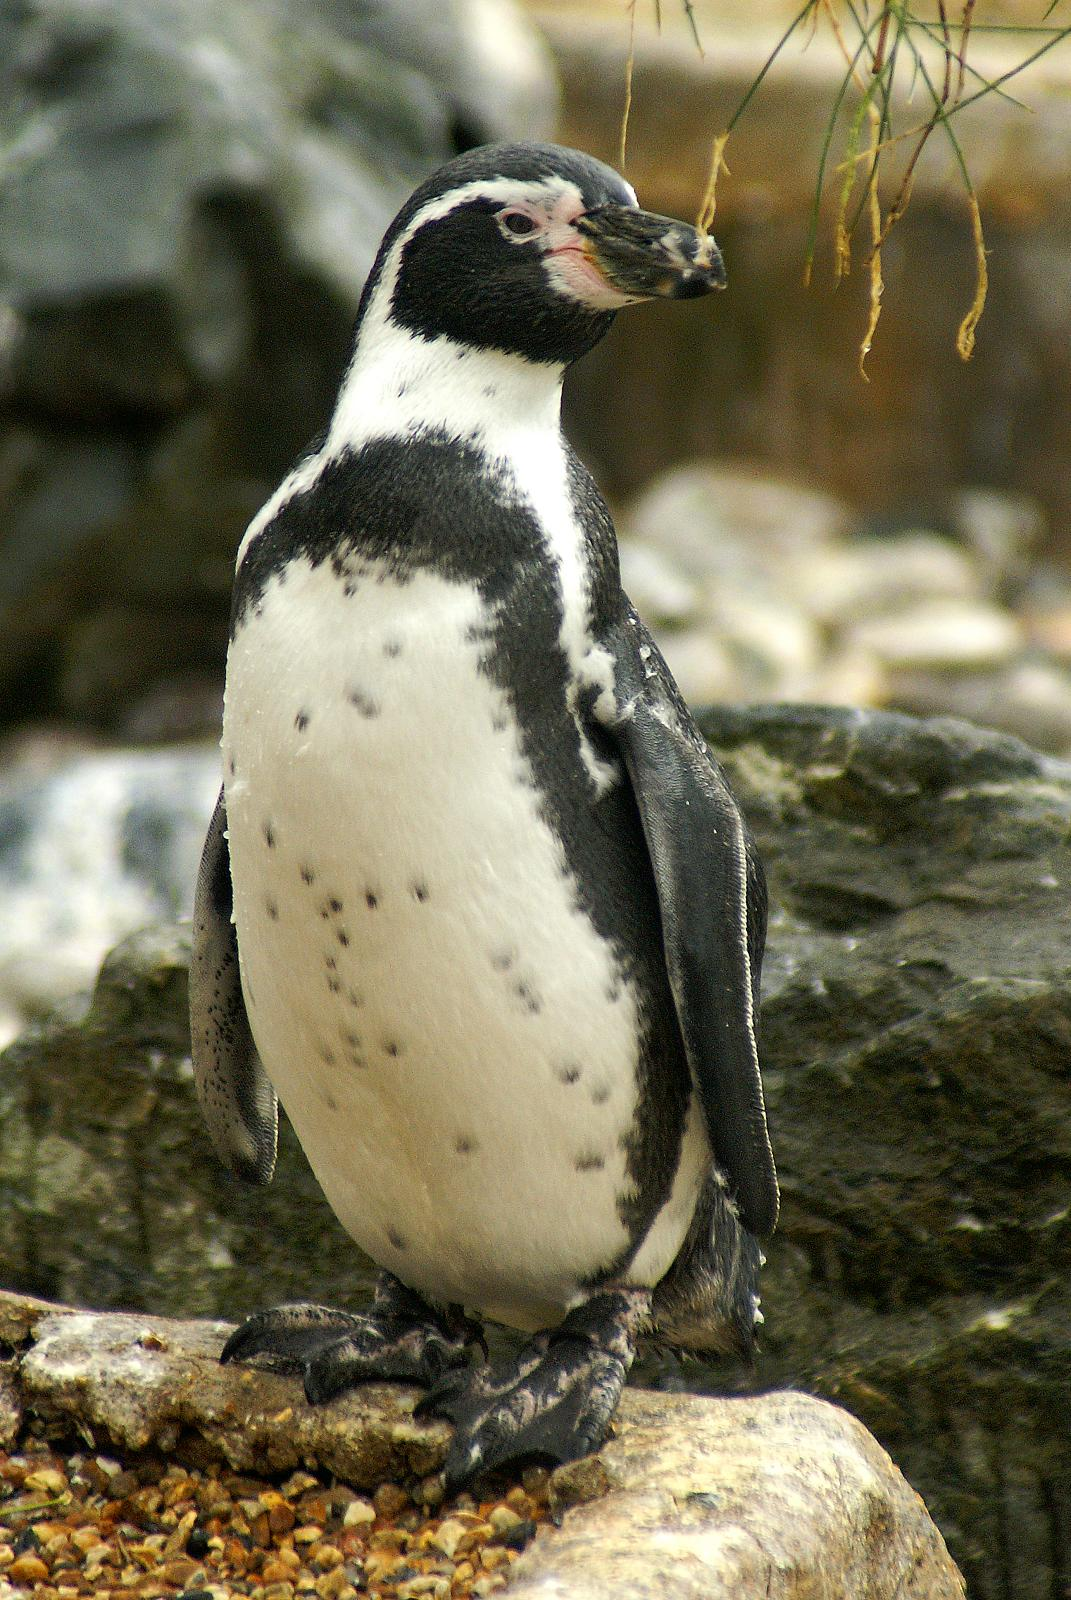penguin: (226, 142, 778, 1458)
